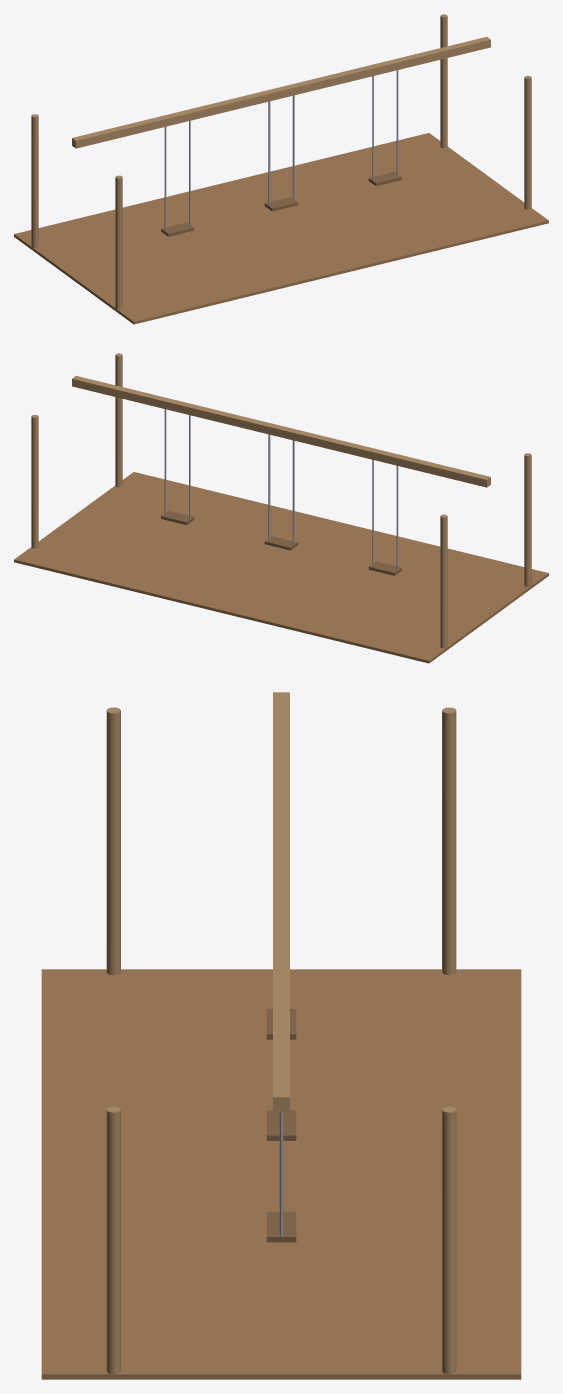
The model's file is swings.glb.
3 views of the same model, one above another, from view 1: azimuth 30°, elevation 25°; view 2: azimuth 150°, elevation 25°; view 3: azimuth 270°, elevation 25° (orthographic). The views are drawn at different scales.
Parts seen in each view (by area): view 1: swings-0, swings-1, swings-7, swings-6; view 2: swings-0, swings-1, swings-7, swings-6; view 3: swings-0, swings-1, swings-6.
Part boxes in pixels (x1,y1,x2,y2): swings-0: (14,133,548,324); swings-1: (31,14,531,309); swings-7: (164,70,398,231); swings-6: (161,171,401,236); swings-0: (14,472,548,663); swings-1: (31,353,531,648); swings-7: (164,409,398,570); swings-6: (161,510,401,575); swings-0: (41,969,521,1379); swings-1: (106,692,456,1374); swings-6: (266,1009,296,1242).
Size of the model in its own units: 8 by 2.6 by 4.
